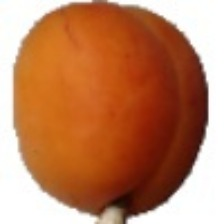apricot: (22, 25, 183, 162)
